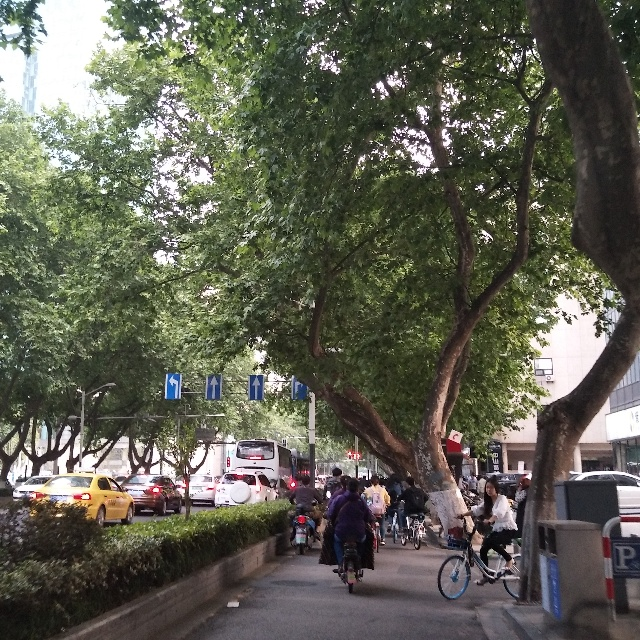left: (164, 372, 182, 403)
right: (291, 371, 314, 405)
straight: (205, 372, 223, 403), (248, 372, 266, 402)
